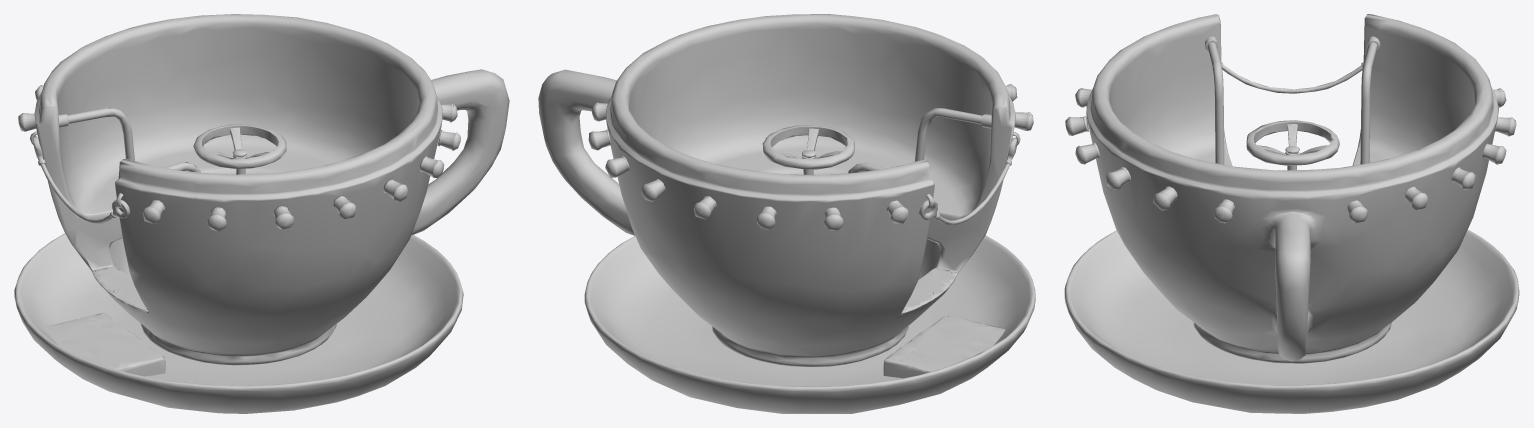
File: SM_Teapot_Ride_Cup.fbx
The picture shows the model from 3 angles, left to right: view 1: azimuth 30°, elevation 25°; view 2: azimuth 150°, elevation 25°; view 3: azimuth 270°, elevation 25°; orthographic projection.
Visible parts, largest first — view 1: SM_Teapot_Ride_Cup_LOD0; view 2: SM_Teapot_Ride_Cup_LOD0; view 3: SM_Teapot_Ride_Cup_LOD0.
Part boxes in pixels (left/top/right/bottom): SM_Teapot_Ride_Cup_LOD0: left=14, top=14, right=509, bottom=413; SM_Teapot_Ride_Cup_LOD0: left=538, top=14, right=1035, bottom=413; SM_Teapot_Ride_Cup_LOD0: left=1064, top=14, right=1519, bottom=413.
Bounding box in the file's own units: 233 × 196 × 126.
